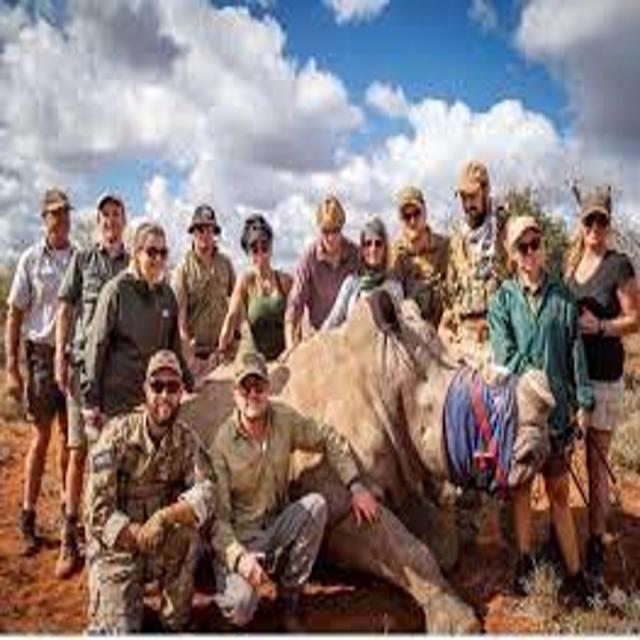poacher: (449, 197, 612, 613), (179, 337, 396, 631), (52, 338, 238, 635), (513, 167, 640, 596), (31, 173, 154, 589), (61, 199, 210, 474), (1, 174, 94, 586), (419, 134, 538, 369), (297, 198, 430, 384), (194, 194, 312, 397), (150, 175, 255, 389), (264, 176, 369, 385), (363, 176, 484, 353)
